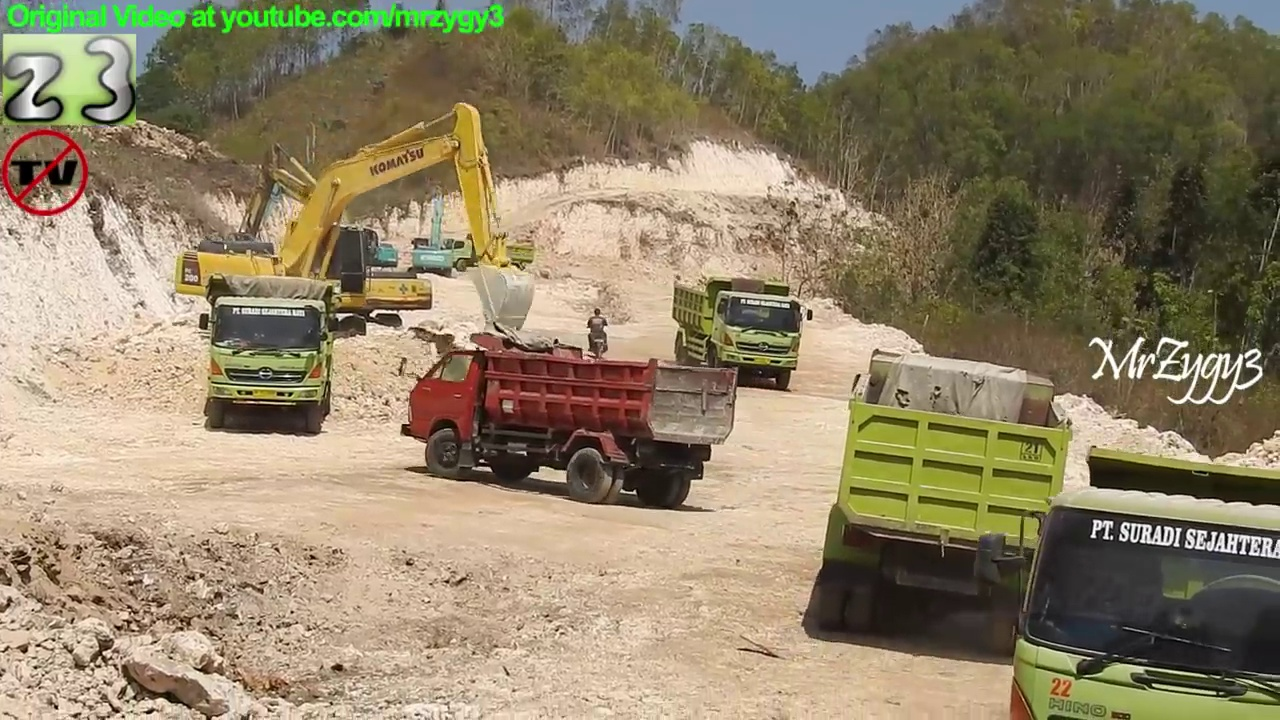excavator: (178, 96, 537, 345), (212, 140, 434, 340), (238, 164, 403, 300), (407, 185, 461, 282)
truck: (815, 348, 1078, 658), (1006, 441, 1279, 720), (392, 331, 744, 513), (198, 272, 343, 438), (669, 271, 816, 395), (448, 231, 534, 278)
